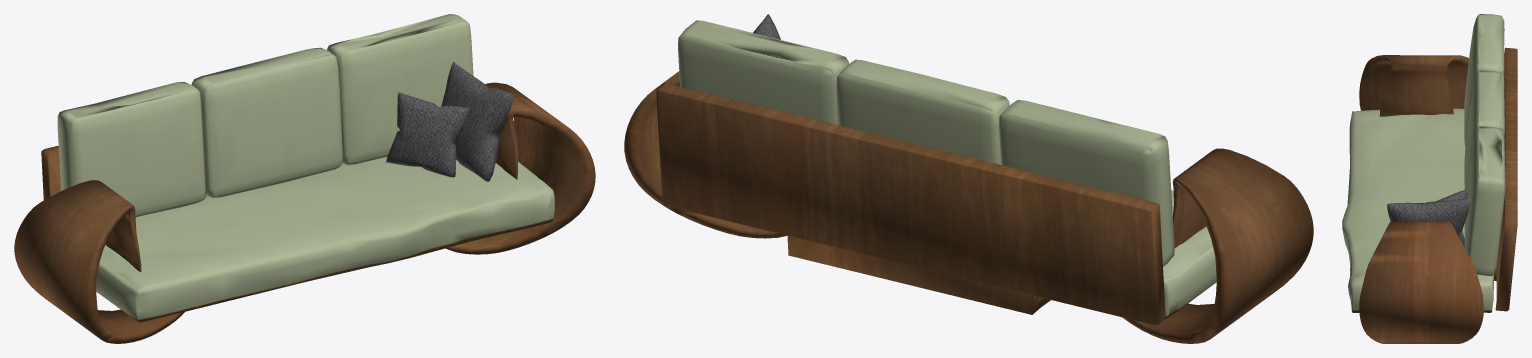
The model's file is sofa_002.glb.
The picture shows the model from 3 angles, left to right: view 1: azimuth 30°, elevation 25°; view 2: azimuth 150°, elevation 25°; view 3: azimuth 270°, elevation 25°; orthographic projection. The views are drawn at different scales.
Parts seen in each view (by area): view 1: Sofa_002; view 2: Sofa_002; view 3: Sofa_002.
Part boxes in pixels (x1=…): Sofa_002: x1=14, y1=14, x2=595, y2=343; Sofa_002: x1=624, y1=14, x2=1313, y2=343; Sofa_002: x1=1342, y1=14, x2=1517, y2=343.
Size of the model in its own units: 3.66 by 1.33 by 1.26.
1 material, 1 textured.
